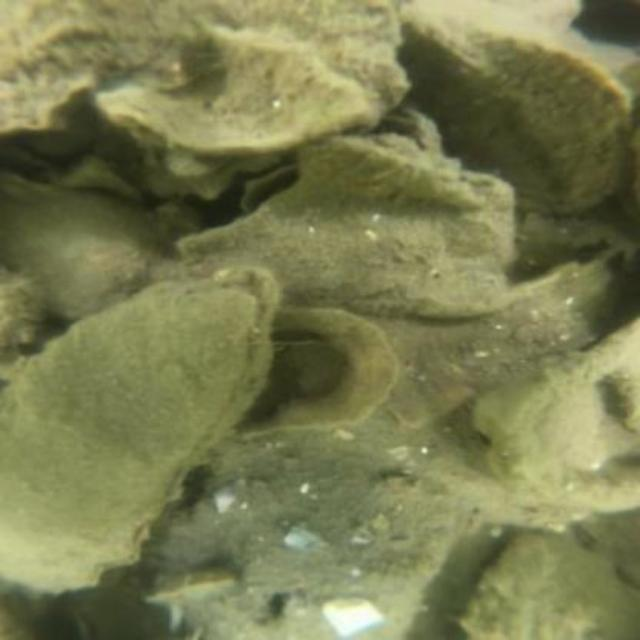Oyster-Closed: (0, 268, 289, 608), (172, 140, 519, 311), (151, 470, 495, 638), (407, 9, 627, 203), (1, 5, 232, 135), (223, 304, 405, 446), (225, 0, 413, 117), (0, 177, 151, 318), (463, 535, 637, 638)
